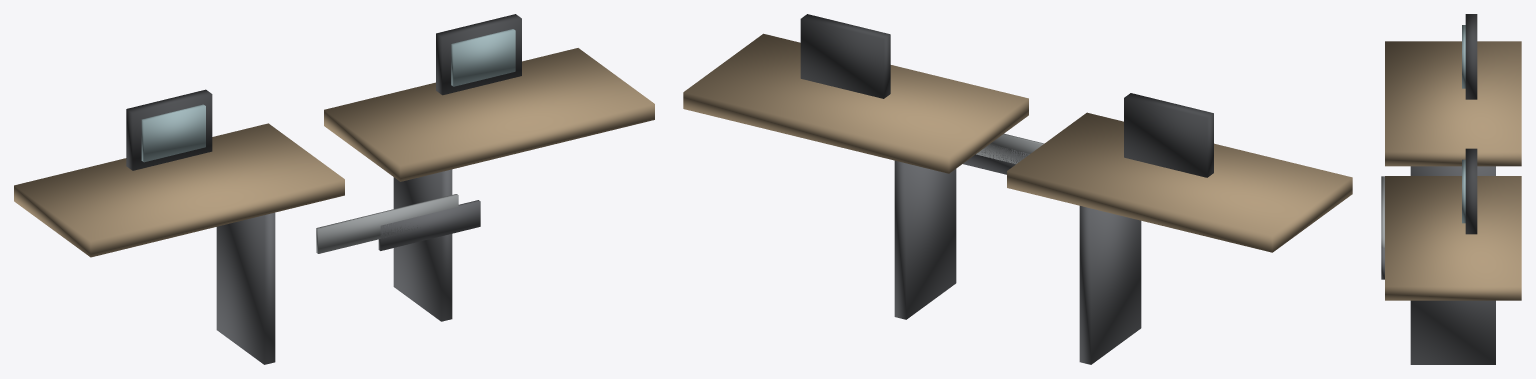
The model's file is newsroom_desk_cluster__weathered.glb.
The picture shows the model from 3 angles, left to right: view 1: azimuth 30°, elevation 25°; view 2: azimuth 150°, elevation 25°; view 3: azimuth 270°, elevation 25°; orthographic projection. The views are drawn at different scales.
Parts seen in each view (by area): view 1: world; view 2: world; view 3: world.
Boxes of the visible parts, box(x1,y1,x2,y2) form: world: box(14, 14, 654, 364); world: box(683, 14, 1352, 364); world: box(1381, 14, 1521, 364).
Size of the model in its own units: 2.55 by 1.09 by 0.6159.
